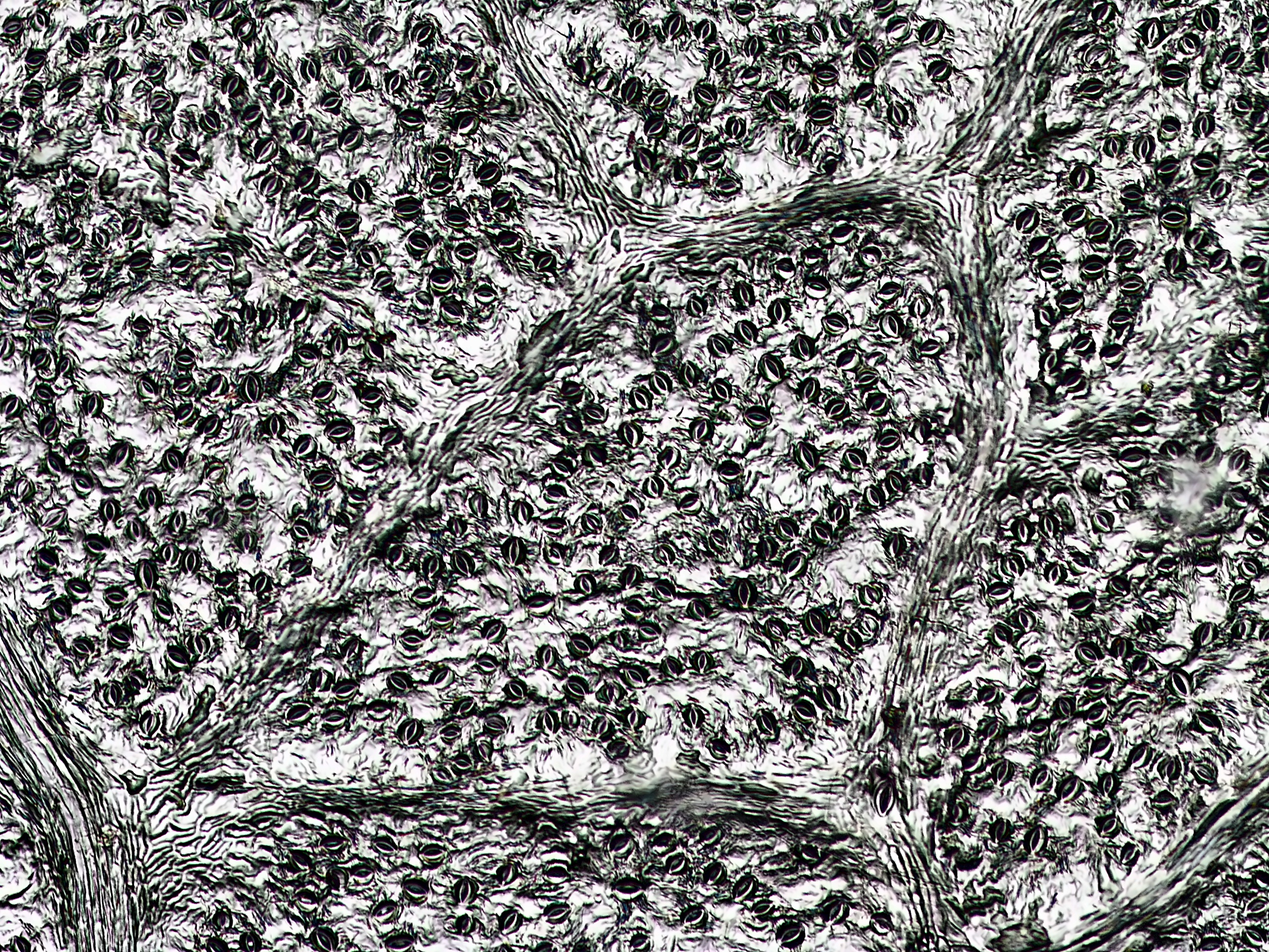stomata: (1190, 709, 1227, 739), (870, 779, 899, 816), (706, 736, 741, 766), (1009, 206, 1042, 236), (729, 577, 759, 609), (26, 307, 60, 335), (543, 860, 577, 887), (774, 923, 809, 949), (855, 43, 884, 74), (866, 912, 898, 940), (239, 371, 266, 404), (107, 437, 133, 471), (608, 875, 643, 900), (916, 19, 946, 48), (886, 18, 915, 48), (498, 536, 525, 568), (814, 684, 844, 712), (1156, 205, 1191, 229), (285, 842, 315, 870), (802, 103, 840, 125), (807, 522, 839, 548), (926, 60, 960, 84), (367, 833, 401, 857), (677, 903, 711, 927), (124, 249, 158, 273), (520, 593, 557, 615), (1166, 668, 1194, 697), (367, 21, 396, 49), (404, 230, 433, 258), (757, 353, 784, 383), (270, 77, 297, 107), (1053, 774, 1084, 800), (1157, 64, 1192, 87), (477, 619, 509, 644), (1023, 824, 1048, 856), (820, 899, 852, 924), (299, 54, 324, 86), (427, 143, 459, 168), (471, 283, 503, 308), (905, 296, 938, 320), (617, 421, 645, 449), (453, 108, 480, 137), (337, 123, 364, 152), (740, 406, 774, 429), (389, 196, 423, 219), (781, 654, 812, 679), (1089, 1, 1120, 26), (136, 558, 158, 593), (124, 314, 156, 338), (1060, 369, 1087, 397), (311, 924, 338, 952), (218, 71, 246, 98), (679, 703, 708, 729), (534, 710, 563, 736), (418, 554, 447, 580), (724, 113, 750, 142), (1195, 403, 1224, 429), (119, 14, 148, 40), (452, 877, 477, 907), (40, 507, 70, 532), (632, 147, 656, 178), (759, 90, 790, 114), (698, 149, 729, 173), (184, 42, 215, 66), (1140, 17, 1163, 49), (1071, 642, 1103, 665), (534, 643, 561, 670), (449, 550, 476, 577), (1068, 162, 1095, 189), (804, 608, 832, 634), (780, 550, 808, 576), (397, 717, 423, 745), (1105, 574, 1133, 600), (293, 166, 321, 192), (494, 229, 522, 255), (82, 391, 108, 419), (202, 459, 228, 487), (997, 552, 1026, 577), (985, 817, 1014, 842), (386, 671, 416, 695), (851, 83, 881, 107), (1192, 2, 1216, 32), (1206, 178, 1236, 202), (291, 887, 321, 911), (474, 162, 504, 186), (800, 277, 834, 298), (820, 311, 851, 334), (1037, 511, 1060, 542), (368, 899, 399, 922), (442, 205, 473, 228), (646, 333, 678, 355), (172, 145, 204, 167), (731, 280, 757, 307), (409, 18, 436, 44), (490, 189, 516, 216), (331, 509, 357, 536), (1080, 256, 1108, 281), (1240, 924, 1268, 949), (427, 269, 455, 294), (1083, 44, 1112, 68), (1131, 135, 1155, 164), (795, 838, 824, 862), (417, 841, 447, 864), (332, 211, 362, 234), (1073, 80, 1109, 99), (796, 441, 818, 472), (639, 117, 670, 139), (691, 85, 722, 107), (158, 5, 189, 27), (309, 468, 340, 490), (677, 361, 703, 387), (1126, 743, 1152, 769), (689, 416, 714, 443), (497, 907, 522, 934), (211, 250, 238, 275), (199, 107, 224, 134), (290, 434, 317, 459), (789, 700, 817, 724), (651, 543, 679, 567), (835, 13, 856, 45), (1175, 32, 1203, 56), (230, 17, 258, 41), (255, 137, 279, 165), (911, 416, 934, 445), (426, 666, 455, 689), (293, 197, 322, 220), (204, 0, 239, 19), (407, 586, 440, 606), (621, 76, 642, 107), (1146, 790, 1177, 811), (617, 564, 643, 589), (885, 102, 911, 127), (1204, 248, 1230, 273), (1158, 755, 1183, 781), (1026, 766, 1052, 791), (252, 55, 278, 80), (361, 338, 387, 363), (160, 447, 186, 472), (767, 297, 791, 324), (563, 675, 590, 699), (1196, 622, 1220, 649), (1031, 261, 1065, 280), (880, 312, 903, 340), (814, 65, 842, 88), (1065, 589, 1093, 612), (988, 623, 1016, 646), (1192, 760, 1220, 783), (606, 832, 634, 855), (347, 178, 370, 206), (1116, 447, 1148, 467), (543, 903, 575, 923), (662, 14, 687, 39), (12, 478, 37, 503), (706, 332, 732, 356), (709, 378, 733, 404), (628, 386, 654, 410), (580, 444, 606, 468), (692, 19, 718, 43), (626, 18, 652, 42), (1060, 202, 1086, 226), (1239, 372, 1265, 396), (1227, 448, 1251, 474), (1041, 559, 1065, 585), (664, 852, 688, 878), (66, 33, 90, 59), (239, 104, 265, 128), (842, 448, 869, 471), (676, 492, 703, 515), (510, 497, 533, 524), (1227, 584, 1254, 607), (1134, 613, 1161, 636), (1095, 814, 1122, 837), (957, 752, 984, 775), (701, 860, 724, 887), (288, 121, 315, 144), (286, 556, 313, 579), (34, 548, 61, 571), (383, 930, 414, 950), (1193, 443, 1221, 465), (1013, 687, 1041, 709), (81, 535, 109, 557), (472, 654, 501, 675), (364, 700, 393, 721), (984, 581, 1016, 600), (805, 21, 830, 45), (1125, 413, 1155, 433), (119, 215, 144, 239), (103, 56, 127, 81), (146, 90, 171, 114), (373, 273, 398, 297), (200, 415, 224, 440), (217, 606, 241, 631), (47, 597, 71, 622), (649, 371, 672, 397), (649, 579, 675, 602), (671, 161, 697, 184), (677, 125, 703, 148), (1009, 520, 1035, 543), (945, 725, 971, 748), (1024, 718, 1051, 740), (990, 759, 1012, 786), (324, 867, 346, 894), (399, 877, 426, 899), (258, 171, 280, 198), (396, 110, 427, 129), (351, 452, 382, 471), (857, 247, 885, 268), (756, 534, 777, 562), (763, 619, 791, 640), (428, 607, 456, 628), (283, 702, 311, 723), (696, 824, 724, 845), (290, 347, 318, 368), (716, 460, 745, 480), (480, 714, 509, 734), (70, 637, 99, 657), (866, 392, 890, 416), (579, 511, 603, 535), (597, 544, 621, 568), (827, 502, 850, 527), (775, 517, 800, 540), (1118, 182, 1143, 205), (21, 241, 46, 264), (349, 68, 372, 93), (440, 299, 465, 322), (290, 521, 315, 544), (207, 507, 230, 532), (1228, 617, 1254, 639), (497, 860, 519, 886), (1241, 894, 1267, 916), (433, 87, 459, 109), (385, 70, 407, 96), (823, 399, 853, 418), (323, 421, 353, 440), (875, 430, 902, 451), (918, 337, 945, 358), (566, 635, 593, 656), (1026, 234, 1053, 255), (428, 764, 456, 784), (358, 386, 386, 406), (884, 533, 907, 557), (862, 485, 885, 509), (340, 639, 363, 663), (1245, 168, 1269, 191), (1230, 338, 1253, 362), (1068, 549, 1092, 572), (1097, 772, 1120, 796), (190, 634, 213, 658), (248, 574, 272, 597), (35, 416, 58, 440), (729, 5, 758, 24), (76, 262, 105, 281), (502, 681, 527, 703), (385, 543, 407, 568), (1222, 45, 1244, 70), (349, 863, 374, 885), (90, 226, 112, 251), (310, 380, 335, 402), (140, 484, 162, 509), (123, 518, 145, 543), (622, 668, 648, 689), (914, 462, 935, 488), (591, 716, 617, 737), (438, 723, 464, 744), (305, 669, 331, 690), (786, 132, 807, 158), (238, 930, 264, 951), (321, 833, 347, 854), (733, 875, 754, 901), (19, 81, 45, 102), (378, 427, 404, 448), (793, 334, 813, 361), (655, 448, 682, 468), (858, 585, 885, 605), (1190, 153, 1217, 173), (1164, 247, 1184, 274), (651, 830, 678, 850), (289, 237, 316, 257), (107, 626, 134, 646), (648, 86, 671, 109), (753, 713, 777, 735), (542, 544, 566, 566), (706, 48, 730, 70), (1192, 112, 1214, 136), (1012, 609, 1036, 631), (946, 800, 968, 824), (153, 601, 175, 625), (71, 472, 95, 494), (885, 471, 906, 496), (687, 597, 708, 622), (599, 681, 624, 702), (1112, 490, 1137, 511), (1082, 704, 1107, 725), (397, 630, 426, 648), (1106, 310, 1135, 328), (232, 493, 261, 511), (799, 377, 819, 403), (744, 35, 764, 61), (1084, 219, 1110, 239), (751, 898, 777, 918), (64, 579, 90, 599), (1154, 159, 1181, 178), (1159, 440, 1186, 459), (143, 60, 170, 79), (266, 413, 285, 440), (237, 529, 256, 556), (540, 518, 572, 534), (1055, 294, 1085, 311), (1192, 936, 1226, 951), (684, 295, 707, 317), (902, 344, 924, 367), (642, 475, 664, 498), (690, 651, 713, 673), (662, 656, 685, 678), (780, 51, 803, 73), (1092, 511, 1115, 533), (1118, 842, 1140, 865), (210, 907, 233, 929), (98, 103, 120, 126), (141, 124, 164, 146), (453, 54, 476, 76), (533, 251, 556, 273), (211, 316, 233, 339), (205, 373, 227, 396), (33, 382, 56, 404), (68, 439, 90, 462), (736, 319, 757, 343), (546, 460, 574, 478), (321, 712, 349, 730), (1209, 366, 1230, 390), (330, 330, 348, 358), (332, 680, 357, 700), (573, 55, 593, 80), (1115, 239, 1140, 259), (58, 77, 83, 97), (127, 81, 158, 97), (574, 571, 593, 597), (453, 243, 479, 262), (645, 302, 674, 319), (21, 51, 48, 69), (0, 394, 18, 421), (840, 627, 862, 649), (473, 79, 495, 101), (445, 517, 468, 538), (1186, 228, 1209, 249), (1022, 653, 1045, 674), (80, 292, 103, 313), (167, 649, 188, 672), (772, 257, 796, 277), (139, 712, 159, 736), (831, 350, 859, 367), (709, 179, 743, 193), (626, 934, 654, 951), (345, 487, 370, 506), (171, 349, 196, 368), (830, 224, 856, 242), (877, 283, 903, 301), (864, 350, 890, 368), (354, 248, 380, 266), (104, 681, 122, 707), (624, 708, 646, 729), (474, 740, 495, 762), (170, 254, 191, 276), (330, 44, 351, 66), (136, 377, 158, 398), (126, 672, 147, 694), (29, 347, 50, 369), (594, 67, 614, 90), (171, 376, 194, 396), (619, 603, 646, 620), (427, 176, 454, 193), (1193, 495, 1217, 514), (320, 93, 344, 112), (936, 838, 961, 856), (213, 572, 238, 590), (800, 248, 826, 265), (1117, 277, 1143, 294), (99, 497, 116, 523), (739, 510, 760, 531), (563, 414, 584, 435), (1039, 351, 1060, 372), (325, 239, 347, 259), (158, 544, 180, 564), (452, 698, 475, 717), (769, 23, 792, 42), (35, 270, 58, 289), (0, 267, 19, 290), (559, 380, 583, 398), (872, 0, 899, 16), (1244, 528, 1268, 546), (182, 550, 200, 574), (103, 587, 127, 605), (45, 452, 63, 476), (1226, 490, 1251, 507), (291, 298, 308, 323), (469, 494, 489, 515), (740, 65, 761, 85), (1083, 677, 1111, 692), (412, 62, 432, 83), (1110, 636, 1129, 658), (0, 112, 22, 131), (617, 504, 640, 522), (1054, 695, 1072, 718), (93, 21, 111, 44), (240, 630, 263, 648), (816, 156, 840, 173), (1069, 336, 1093, 353), (65, 179, 89, 196), (32, 127, 56, 144), (1240, 255, 1265, 271), (1154, 508, 1175, 527), (1131, 653, 1152, 672), (1091, 737, 1112, 756), (54, 203, 73, 224), (858, 616, 880, 634), (605, 739, 627, 757), (1158, 120, 1180, 138), (975, 685, 997, 703), (171, 120, 193, 138), (172, 403, 194, 421), (0, 332, 14, 360), (854, 370, 877, 387), (542, 485, 565, 502), (638, 623, 661, 640), (449, 755, 472, 772), (1195, 557, 1218, 574), (8, 935, 31, 952), (31, 8, 48, 31), (1230, 96, 1250, 115), (1103, 137, 1122, 157), (982, 720, 1002, 739), (454, 914, 474, 933), (0, 145, 19, 165), (168, 510, 185, 532), (1193, 528, 1219, 542), (611, 631, 630, 650), (1250, 15, 1268, 35), (1100, 347, 1124, 362), (1154, 558, 1178, 573), (1034, 309, 1055, 326), (1240, 558, 1261, 575), (259, 305, 276, 326), (1134, 542, 1157, 557), (414, 289, 432, 308), (239, 302, 255, 323), (40, 228, 62, 243), (63, 228, 82, 245), (583, 407, 606, 421), (1253, 140, 1269, 160), (1, 19, 23, 33), (562, 711, 579, 729), (1155, 471, 1172, 489), (56, 357, 74, 374), (0, 33, 21, 47), (708, 530, 725, 547), (1203, 73, 1219, 89), (1254, 110, 1269, 126), (0, 230, 11, 247)
